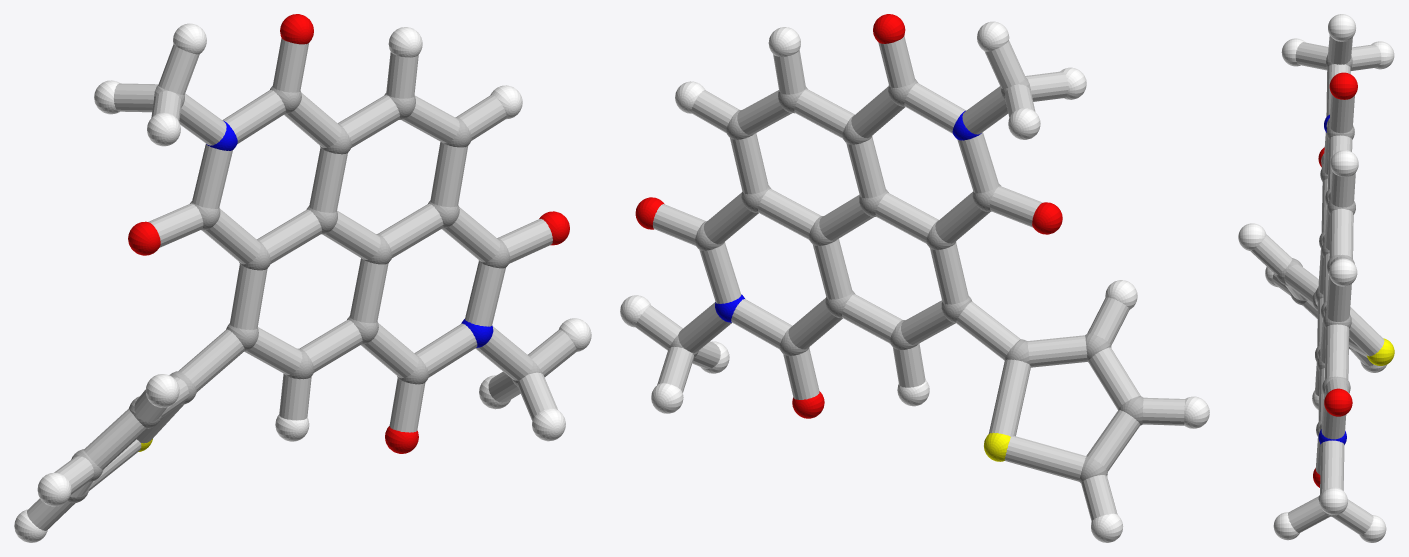
Rendered from color.glb.
3 views of the same model, side by side, from view 1: azimuth 30°, elevation 25°; view 2: azimuth 150°, elevation 25°; view 3: azimuth 270°, elevation 25° (orthographic). The views are drawn at different scales.
Visible parts, largest first — view 1: grp14119, grp7241, grp1, grp12309, grp11585; view 2: grp14119, grp7241, grp1, grp12309, grp11585; view 3: grp14119, grp7241, grp1, grp12309, grp13757, grp11585.
Boxes of the visible parts, x1,y1,x2,y2 form: grp14119: (27, 38, 576, 530); grp7241: (14, 23, 591, 542); grp1: (67, 85, 542, 502); grp12309: (128, 14, 569, 453); grp11585: (206, 120, 493, 347); grp14119: (635, 36, 1185, 521); grp7241: (620, 21, 1209, 542); grp1: (669, 77, 1143, 482); grp12309: (635, 14, 1062, 418); grp11585: (715, 110, 981, 322); grp14119: (1250, 35, 1384, 534); grp7241: (1238, 14, 1394, 542); grp1: (1276, 54, 1355, 516); grp12309: (1313, 72, 1357, 487); grp13757: (1366, 338, 1394, 365); grp11585: (1318, 114, 1346, 444).
Size of the model in its own units: 11.84 by 9.65 by 3.31.
